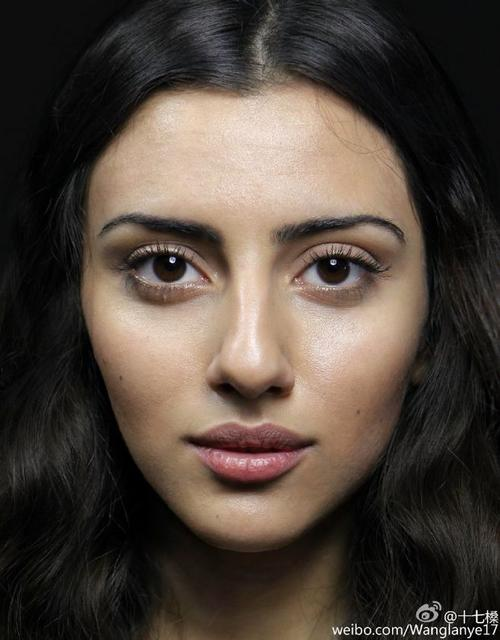no_mask: (78, 91, 435, 544)
